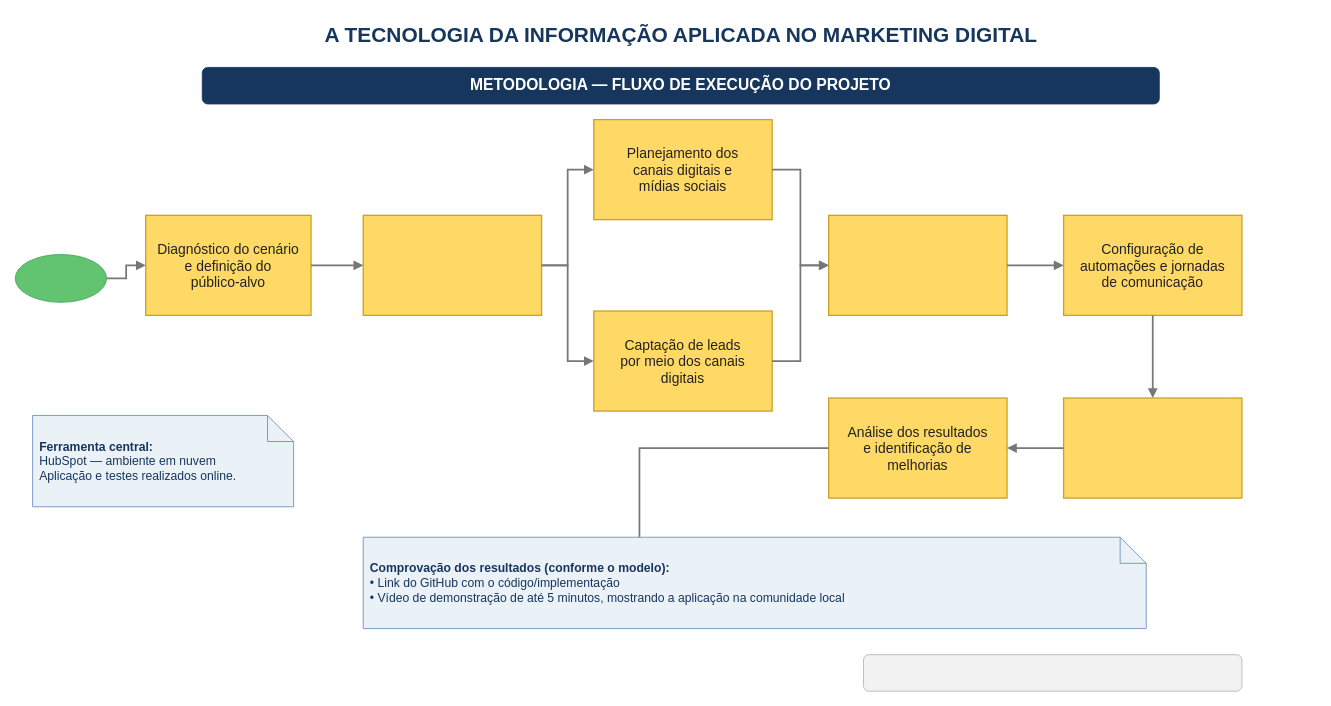
The diagram is 1331 pixels wide and 706 high, and some of its shapes have lost their labels. Each missing label, with the box of its shape:
Desenvolvimento e aplicação remota a partir de Curitiba/PR: (863, 654, 1242, 691)
Estruturação da plataforma HubSpot Organização dos dados: (362, 214, 542, 316)
Início: (14, 254, 107, 302)
Monitoramento dos indicadores de marketing e vendas: (1063, 397, 1242, 498)
Qualificação e segmentação dos contatos: (828, 214, 1007, 316)
